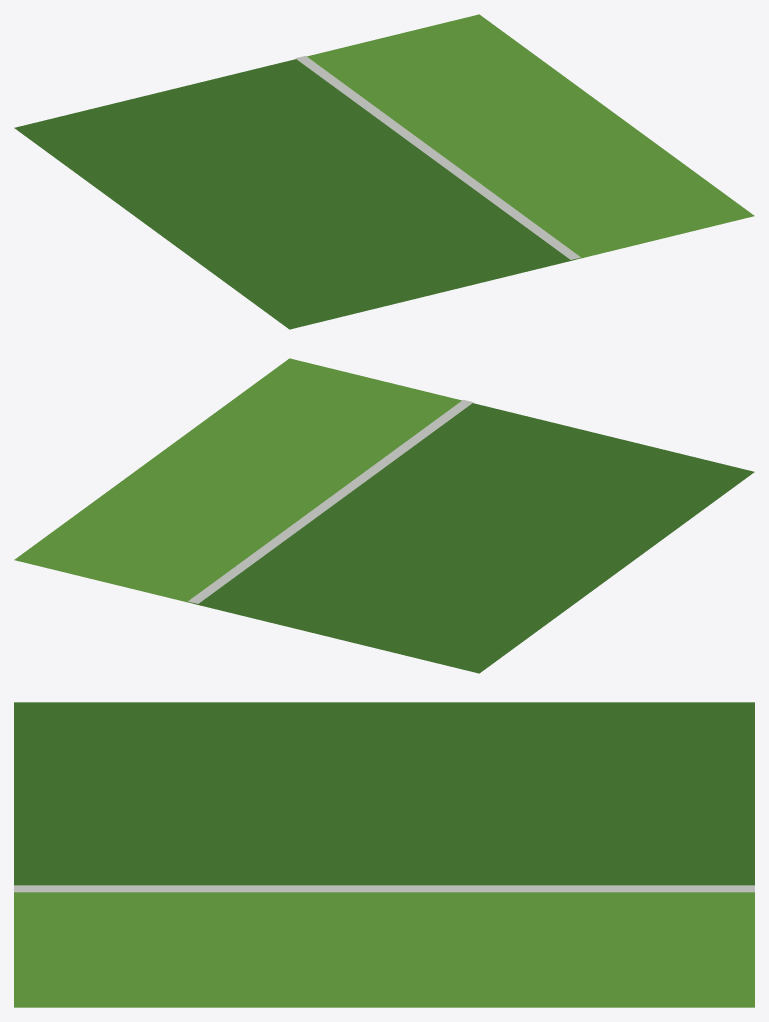
File: pitch_f_0_5.glb
The picture shows the model from 3 angles, top to bottom: view 1: azimuth 30°, elevation 25°; view 2: azimuth 150°, elevation 25°; view 3: azimuth 270°, elevation 25°; orthographic projection. The views are drawn at different scales.
Visible parts, largest first — view 1: pitch_f_0_5; view 2: pitch_f_0_5; view 3: pitch_f_0_5.
Boxes of the visible parts, bbox=[...] form: pitch_f_0_5: bbox=[14, 14, 754, 329]; pitch_f_0_5: bbox=[14, 358, 754, 673]; pitch_f_0_5: bbox=[14, 702, 754, 1007].
Size of the model in its own units: 9.75 by 0.02 by 10.
